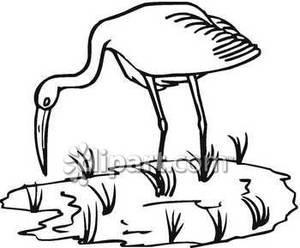bird: (16, 1, 256, 186)
